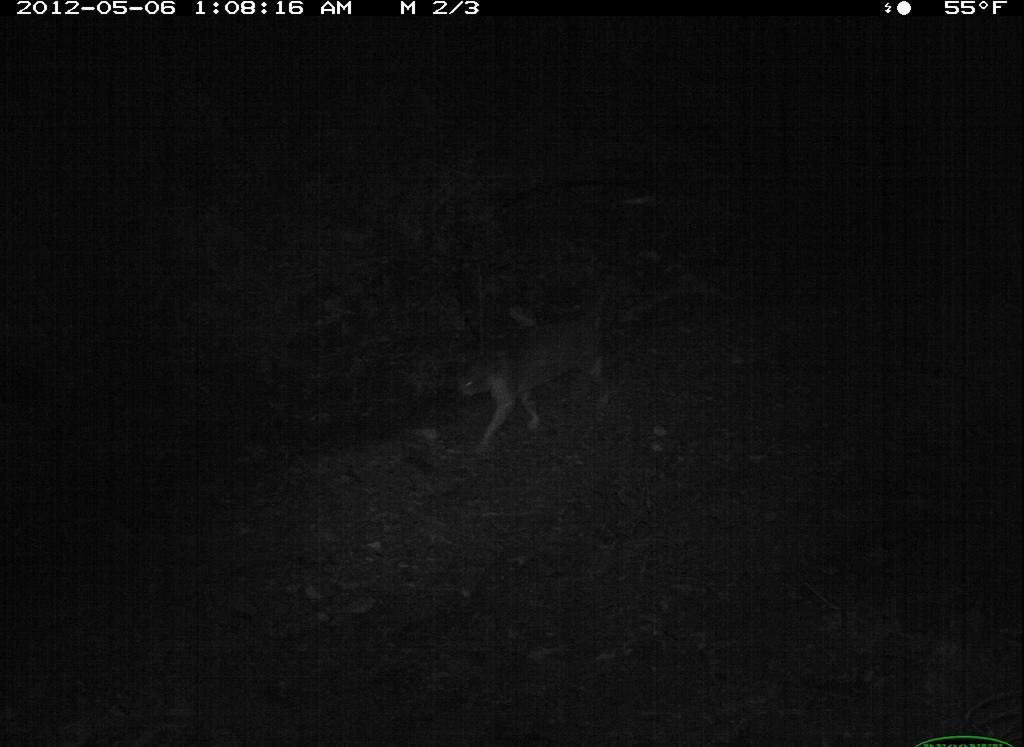cat: (440, 284, 621, 446)
